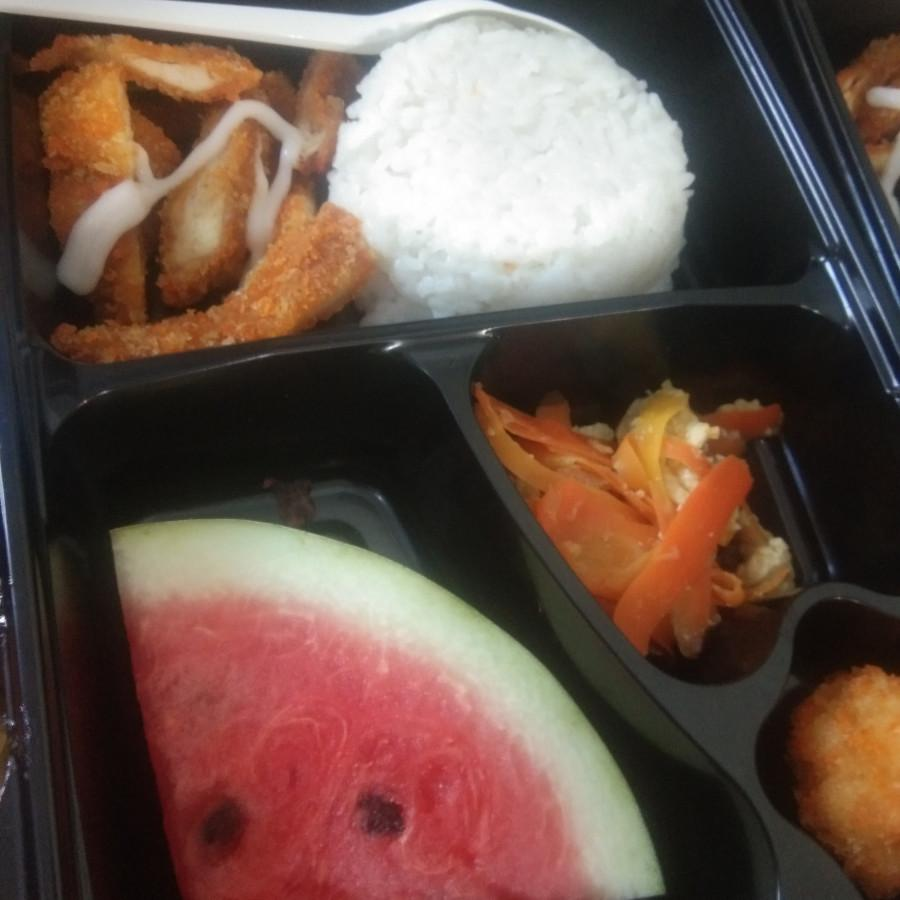buah_sayur_vitA: (117, 525, 661, 898), (577, 401, 721, 600)
daging: (26, 47, 311, 333), (828, 699, 892, 824)
makanan_berpati: (394, 63, 632, 268)
